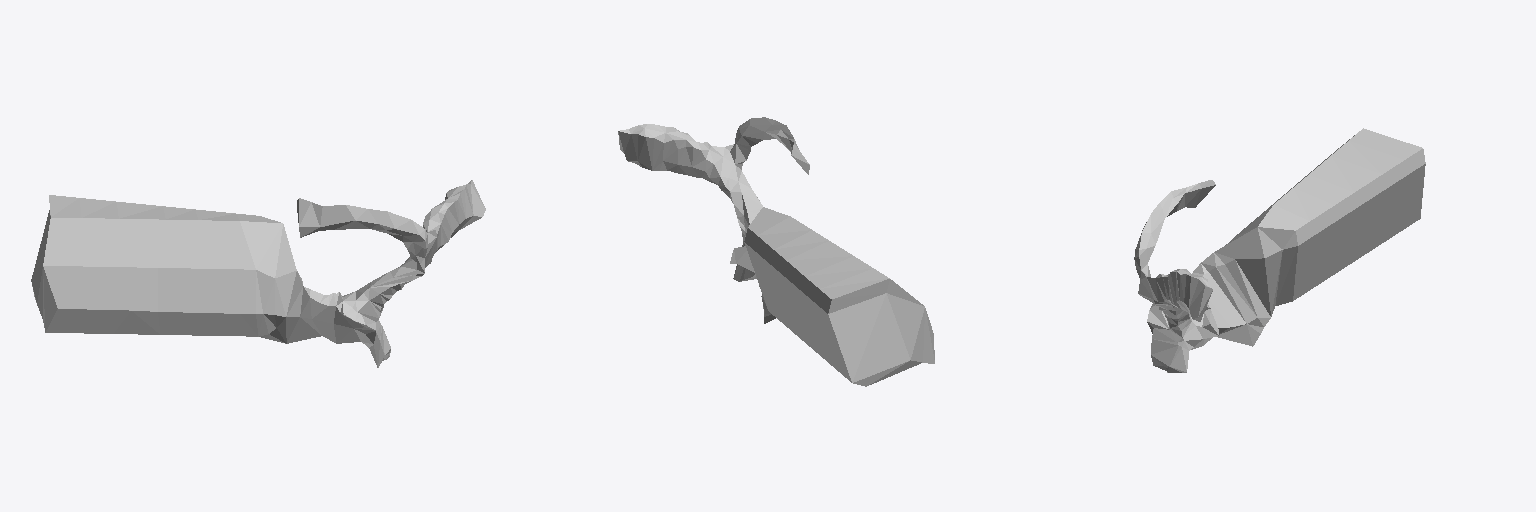
The model's file is membranousSeptum.obj.
3 renders of one model, left to right at view 1: azimuth 30°, elevation 25°; view 2: azimuth 150°, elevation 25°; view 3: azimuth 270°, elevation 25°, orthographic.
Parts seen in each view (by area): view 1: unilatCompleteCleft_deepBed.003; view 2: unilatCompleteCleft_deepBed.003; view 3: unilatCompleteCleft_deepBed.003.
Part boxes in pixels (x1,y1,x2,y2): unilatCompleteCleft_deepBed.003: (31,180,485,367); unilatCompleteCleft_deepBed.003: (618,117,934,386); unilatCompleteCleft_deepBed.003: (1134,128,1425,372).
Size of the model in its own units: 2.57 by 1.07 by 1.72.